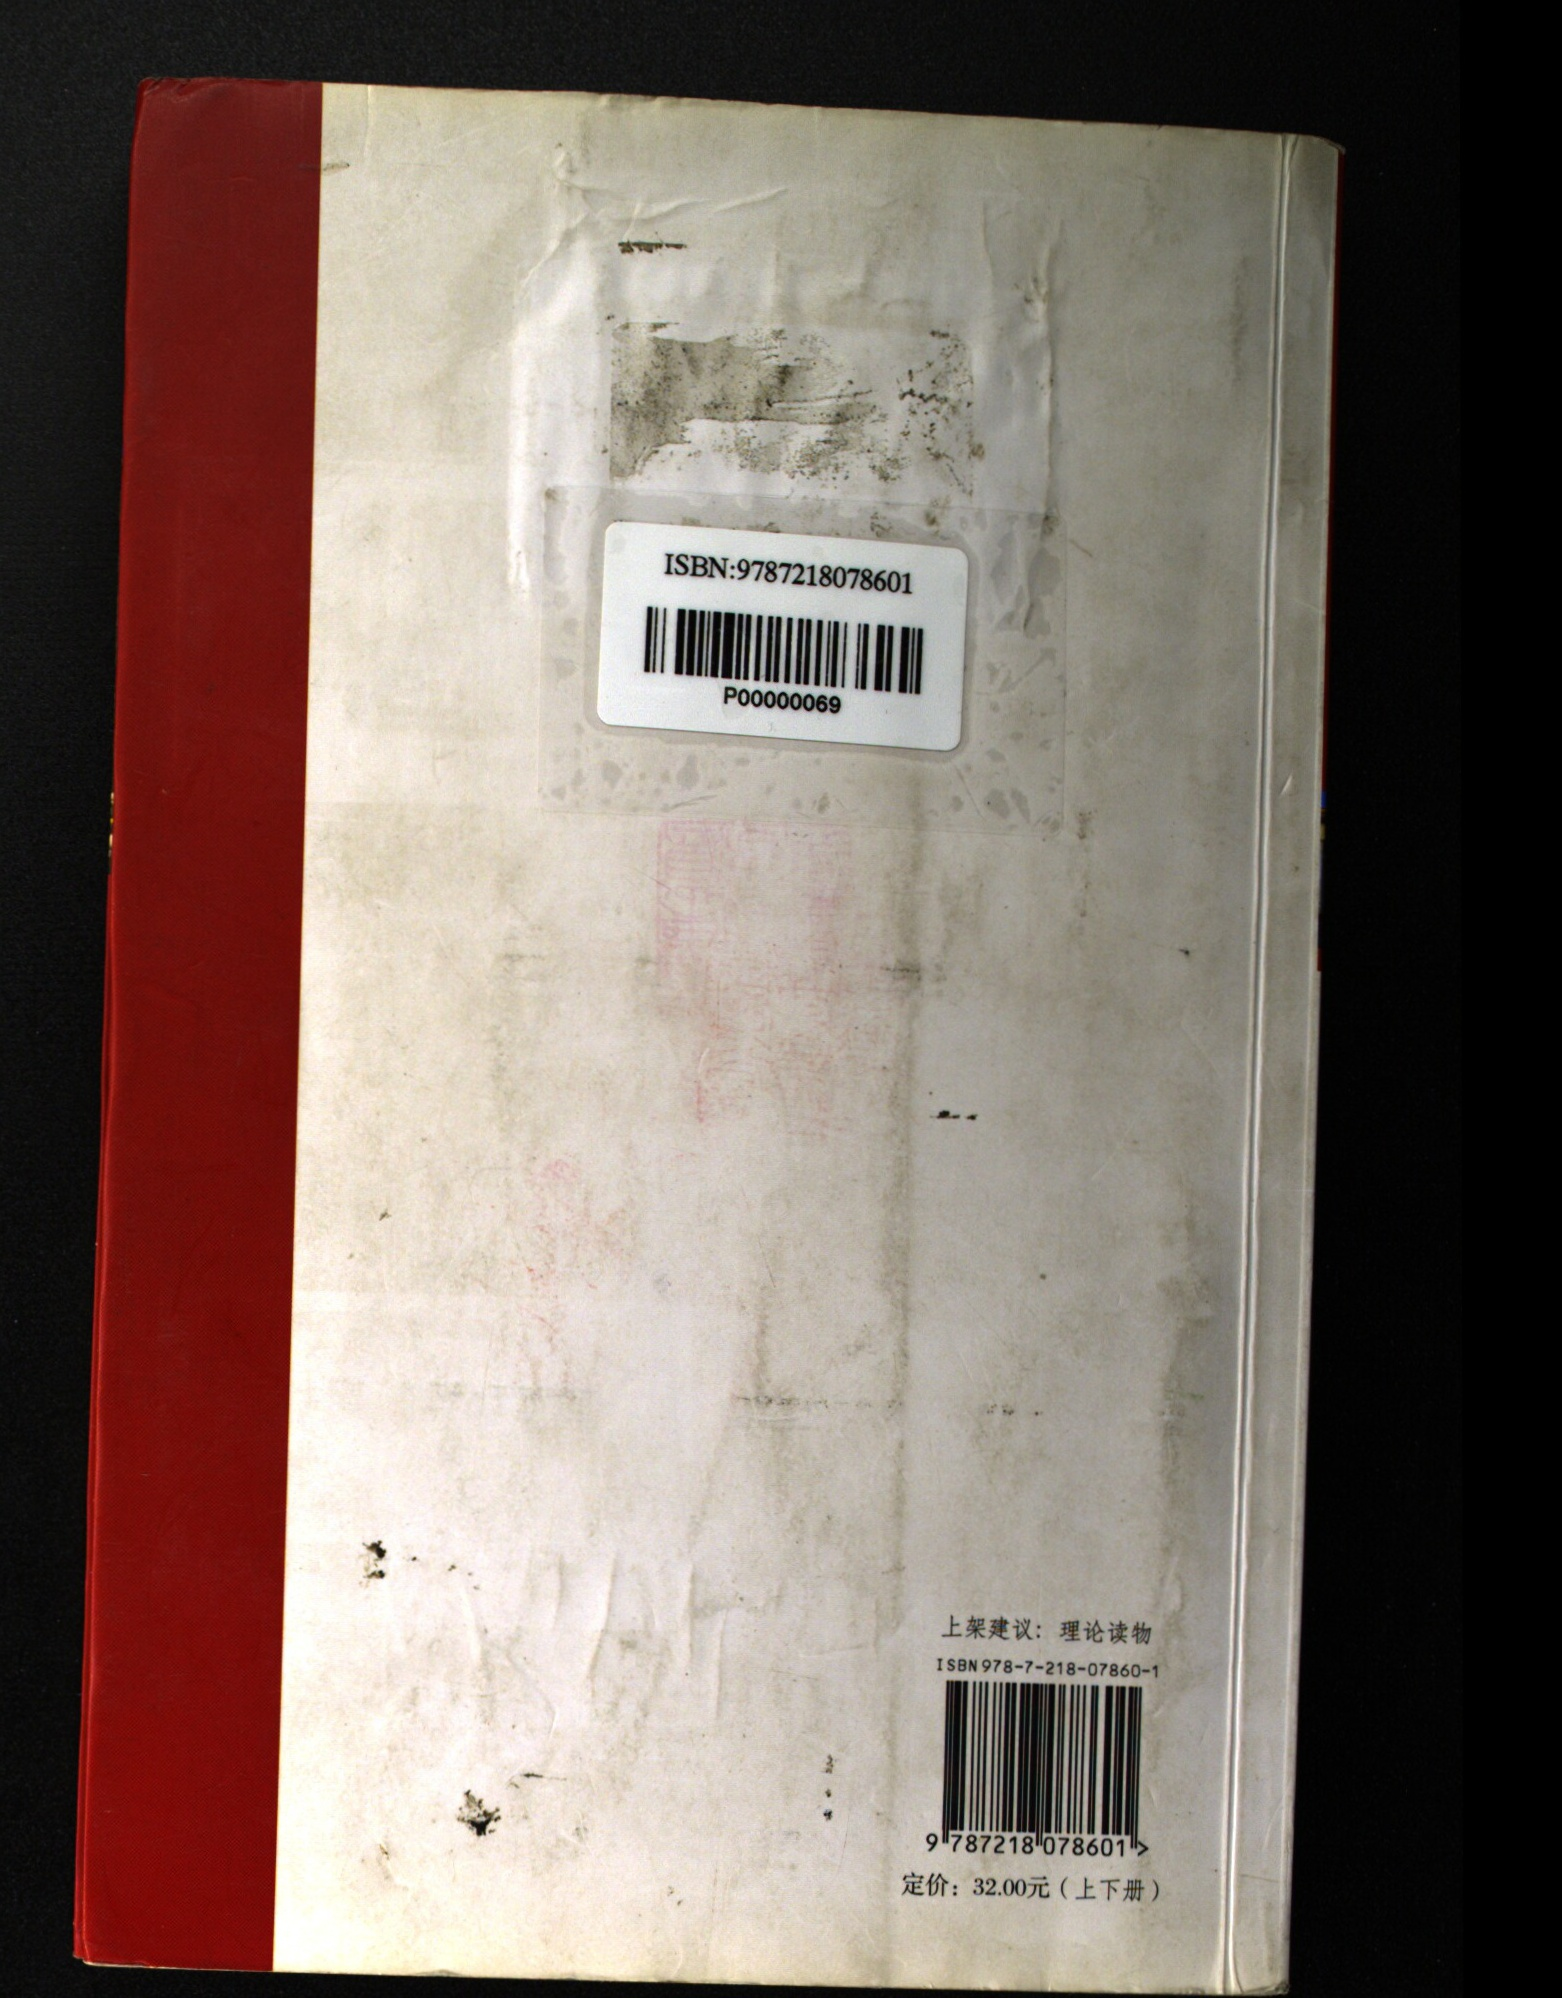barcode: (610, 527, 957, 748), (925, 1636, 1199, 1915)
